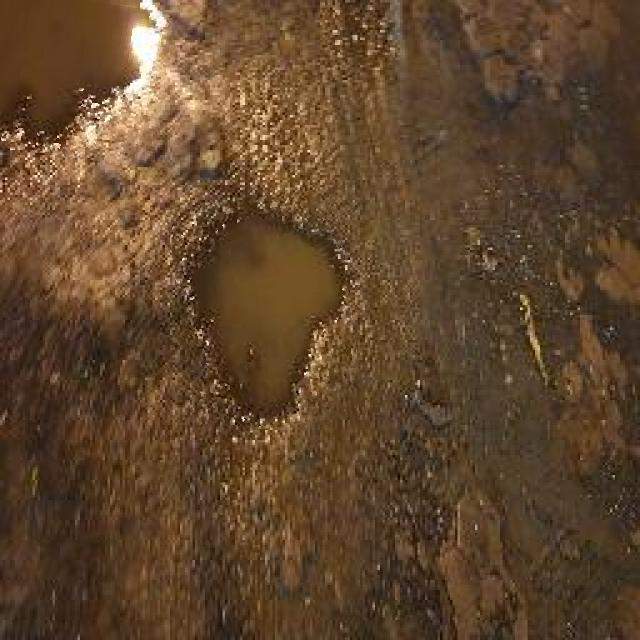puddle: (174, 194, 360, 434), (1, 1, 170, 163)
